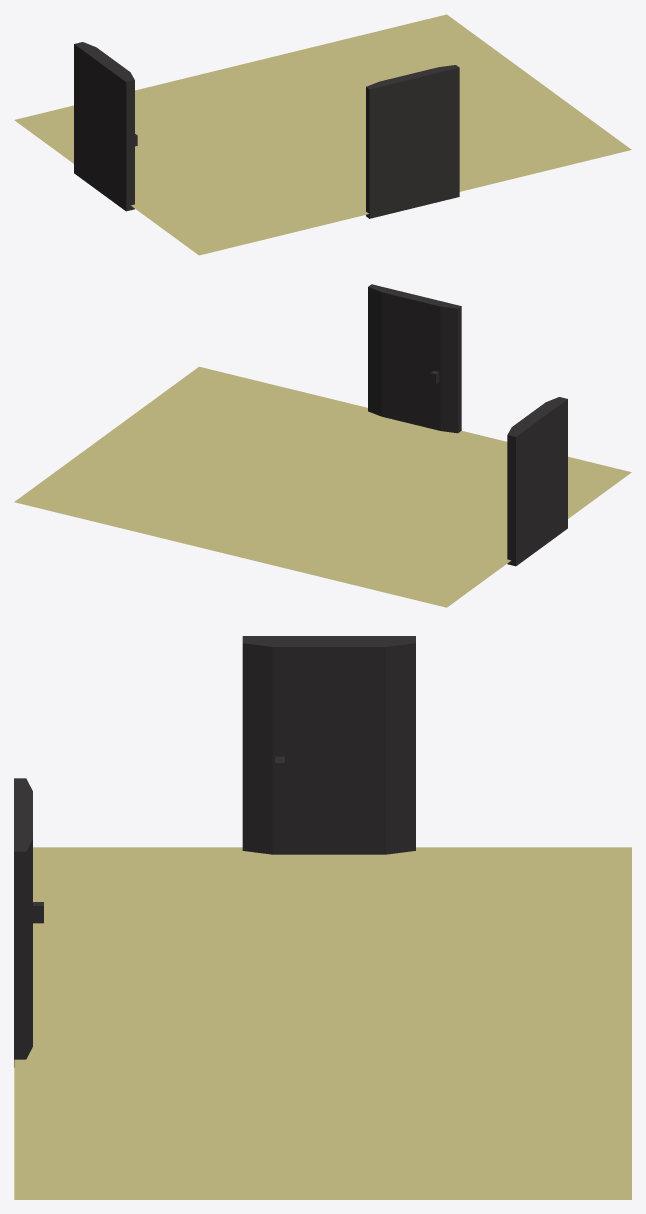
The model's file is ByakkoStage4.7.fbx.
3 views of the same model, one above another, from view 1: azimuth 30°, elevation 25°; view 2: azimuth 150°, elevation 25°; view 3: azimuth 270°, elevation 25° (orthographic). The views are drawn at different scales.
Visible parts, largest first — view 1: Plane.025, Plane.026; view 2: Plane.025, Plane.026; view 3: Plane.025, Plane.026.
Part boxes in pixels (x1,y1,x2,y2): Plane.025: [14, 14, 631, 255]; Plane.026: [74, 42, 459, 218]; Plane.025: [14, 366, 631, 607]; Plane.026: [368, 284, 567, 566]; Plane.025: [14, 847, 631, 1199]; Plane.026: [14, 636, 415, 1067].
Size of the model in its own units: 34.66 by 9.8 by 25.42.
